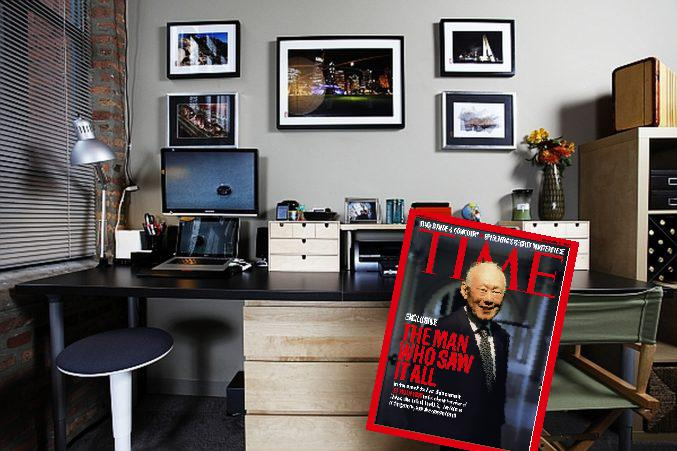times: (365, 207, 580, 451)
